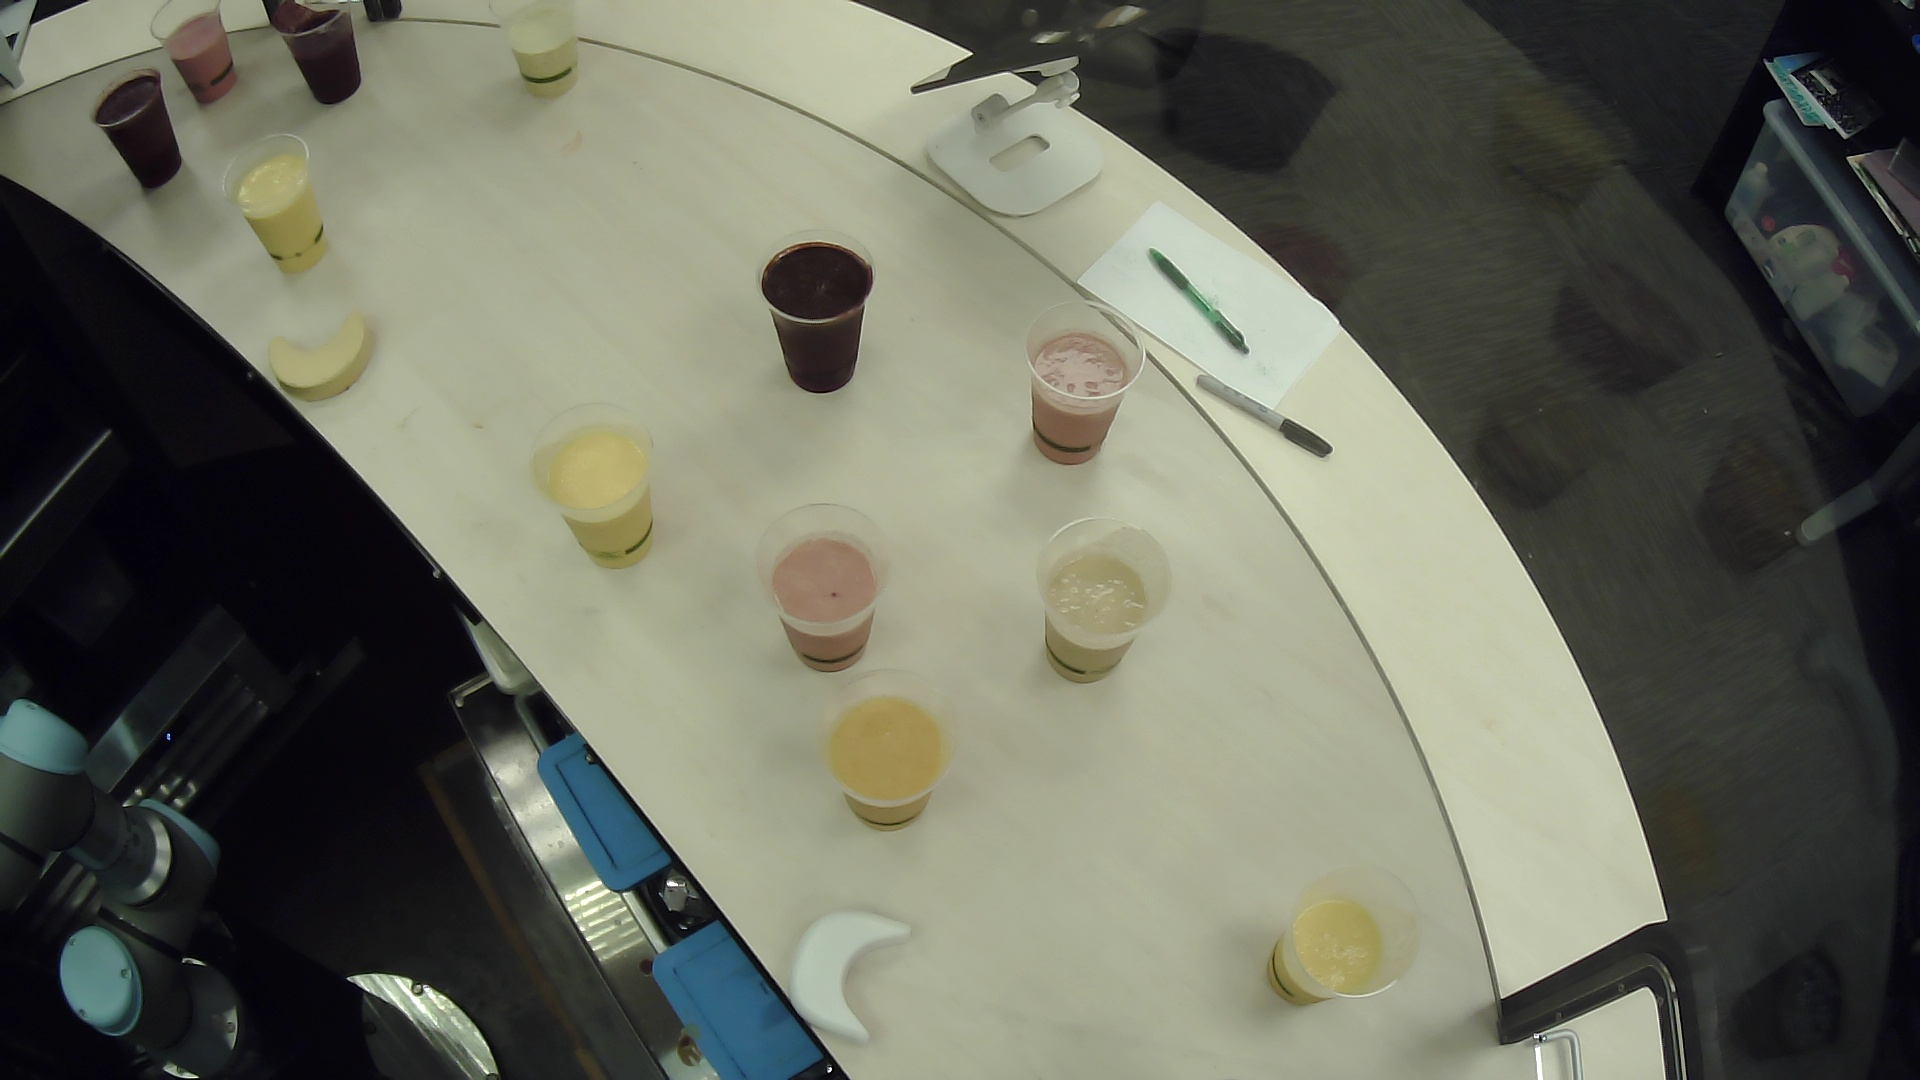Deliver: (774, 880, 939, 1062), (256, 309, 381, 421)
Full_cup: (1240, 849, 1437, 1027), (1014, 506, 1182, 709), (744, 215, 895, 423), (1004, 290, 1156, 483), (513, 406, 676, 584), (750, 497, 905, 686), (818, 666, 971, 841), (202, 129, 361, 295), (79, 57, 200, 204), (477, 1, 622, 116), (265, 1, 382, 129), (135, 1, 257, 112)
